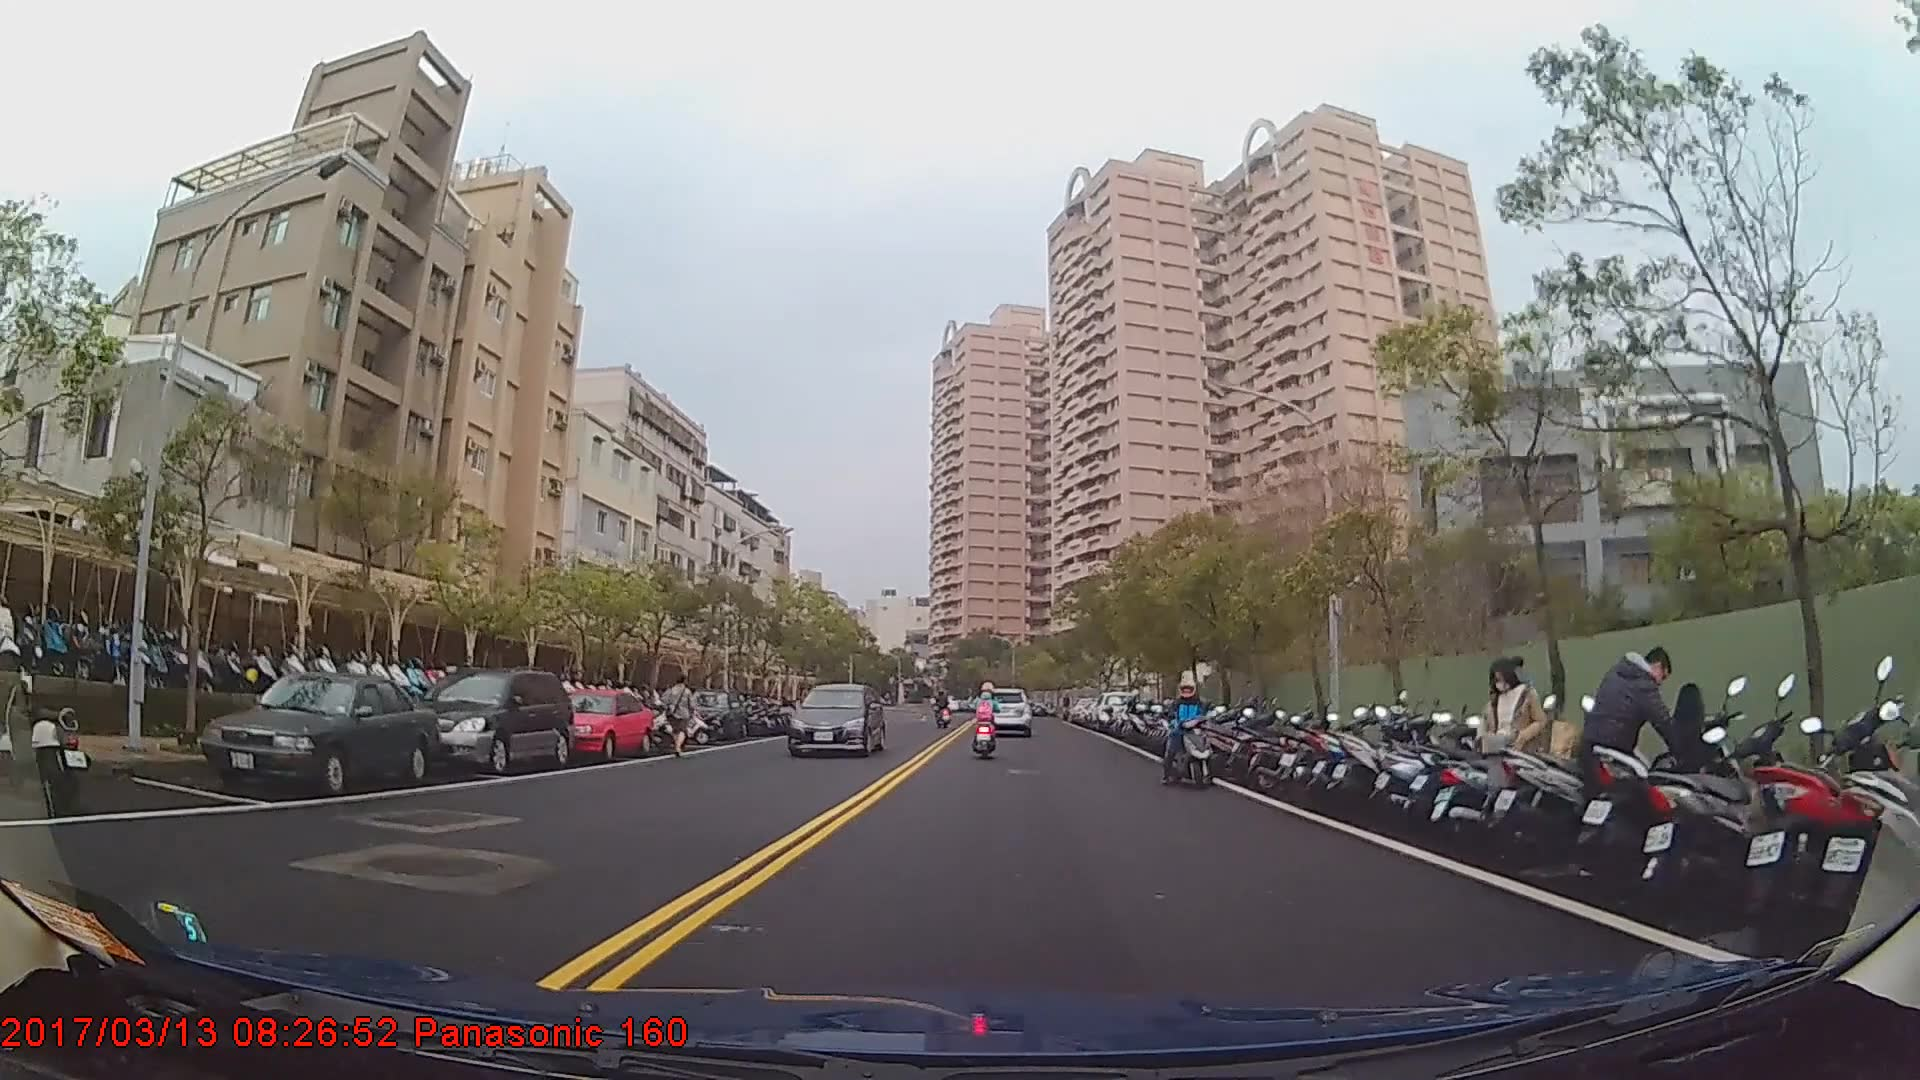pedestrian: (1582, 647, 1704, 866), (1484, 659, 1553, 847), (661, 677, 699, 761)
rider: (1159, 677, 1216, 788), (970, 683, 1002, 755)
vehicle: (201, 670, 437, 791), (407, 664, 573, 773), (547, 686, 655, 759), (788, 680, 888, 758), (980, 683, 1033, 738), (1090, 689, 1141, 733)
